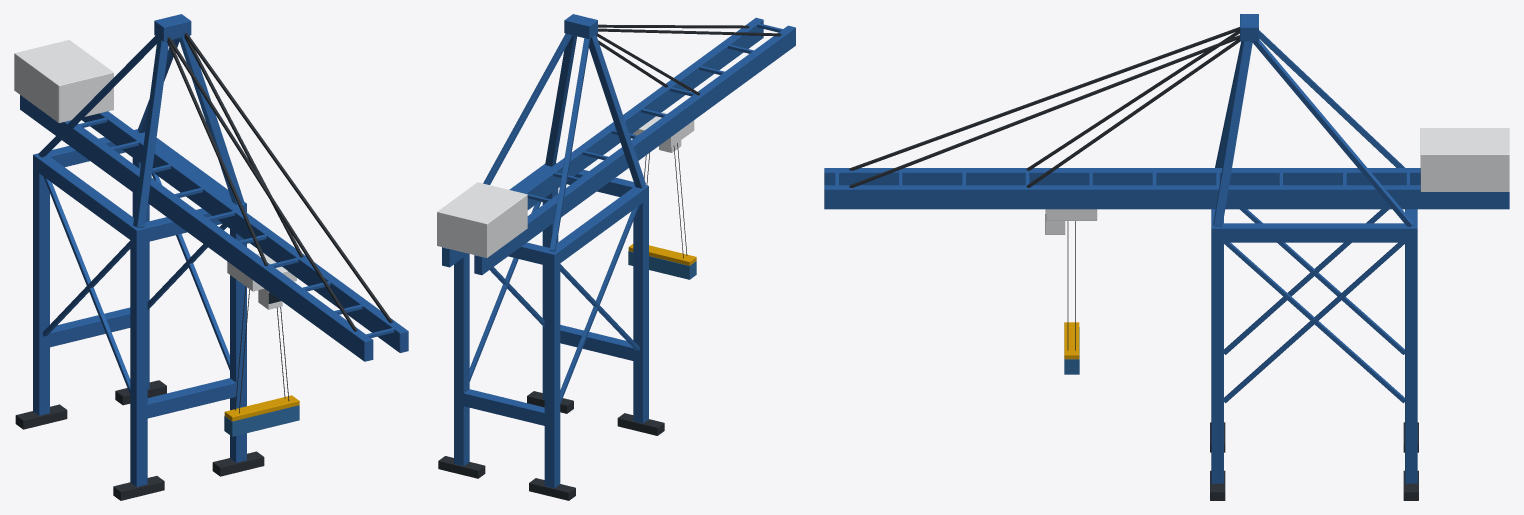
Rendered from grua-sts.glb.
The picture shows the model from 3 angles, left to right: view 1: azimuth 30°, elevation 25°; view 2: azimuth 150°, elevation 25°; view 3: azimuth 270°, elevation 25°; orthographic projection. The views are drawn at different scales.
Visible parts, largest first — view 1: estructura, pluma, carro, contenedor, spreader; view 2: estructura, pluma, carro, contenedor, spreader; view 3: estructura, pluma, carro.
Boxes of the visible parts, <box> form: estructura: <box>14,14,392,500</box>; pluma: <box>20,95,408,361</box>; carro: <box>227,253,296,413</box>; contenedor: <box>224,405,299,436</box>; spreader: <box>224,395,299,421</box>; estructura: <box>437,14,781,500</box>; pluma: <box>442,17,795,275</box>; carro: <box>632,112,694,258</box>; contenedor: <box>628,251,696,279</box>; spreader: <box>628,244,696,265</box>; estructura: <box>849,14,1509,500</box>; pluma: <box>824,168,1509,209</box>; carro: <box>1046,209,1097,350</box>.
Size of the model in its own units: 26 by 77.5 by 108.
